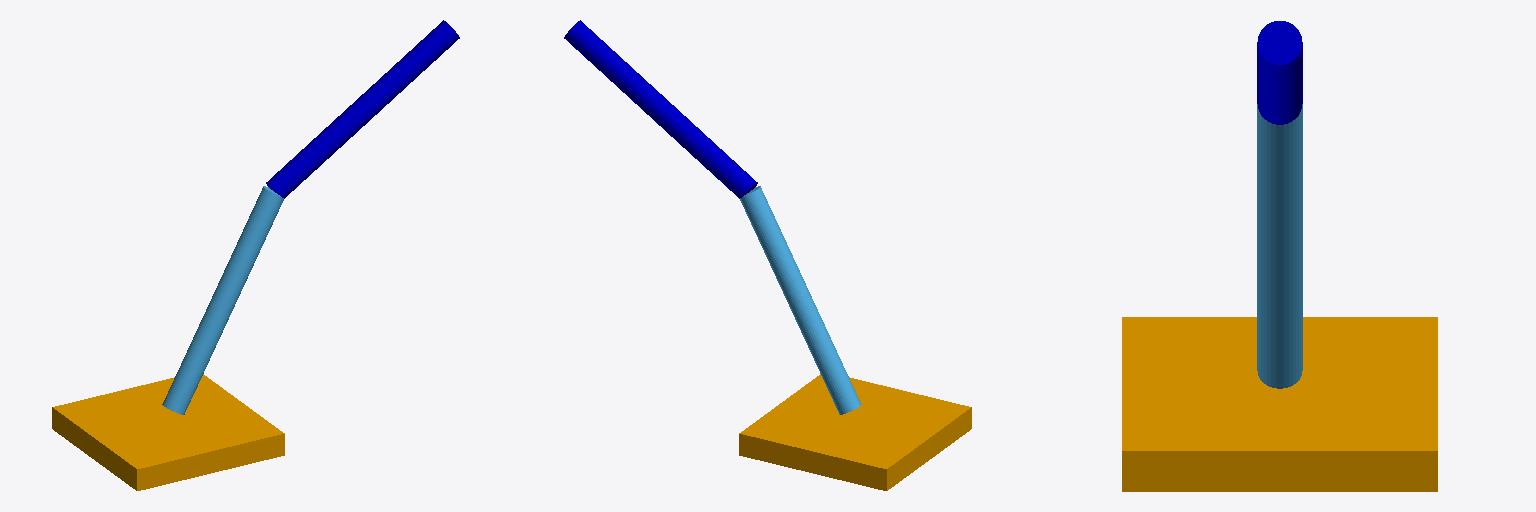
robot.urdf — 2R_robot:
<robot name="2R_robot">
    <material name="blue">
        <color rgba="0 0 0.8 1"/>
    </material>
    <material name="black">
        <color rgba="0 0 0 1"/>
    </material>
    
    <link name="base_link">
        <inertial>
            <origin xyz="8e-05 0.02446 -0.00146" rpy="0 0 0"/>
            <mass value="1000000"/>
            <inertia ixx="0.00196" ixy="0" ixz="0" iyy="0.00133" iyz="-2e-05" izz="0.0023"/>
        </inertial>
        <visual>
            <geometry>
                <box size="0.7 0.7 0.10"/>
            </geometry>
        </visual>
        <collision>
            <origin xyz="0 0.00015 -0.00044" rpy="0 0 0"/>
            <geometry>
                <box size="0.7 0.7 0.10"/>
            </geometry>
        </collision>
    </link>
    <link name="link1">
        <visual>
            <geometry>
                <cylinder length="1" radius="0.05"/>
            </geometry>
            <origin rpy="0 0 0" xyz="0 0 0.55"/>
            <material name="white"/>
        </visual>
    </link>
    <joint name="joint1" type="revolute">
        <parent link="base_link"/>
        <child link="link1"/>
        <origin xyz="0 0 0.05" rpy="0.0 0.5 0.0"/>
        <limit effort="200" lower="-3.14" upper="3.14" velocity="1.0"/>
        <axis xyz= "1 0 0"/>
    </joint>
    <link name="link2">
        <visual>
            <geometry>
                <cylinder length="1" radius="0.05"/>
            </geometry>
            <origin rpy="0 0 0" xyz="0 0 0.5"/>
            <material name="blue"/>
        </visual>
    </link>
    <joint name="joint2" type="revolute">
        <parent link="link1"/>
        <child link="link2"/>
        <origin xyz="0 0 1.05" rpy="0.0 0.5 0.0"/>
        <limit effort="200" lower="-3.14" upper="3.14" velocity="1.0"/>
        <axis xyz= "1 0 0"/>
    </joint>
</robot>

--- Render facts (derived) ---
The picture shows the robot from 3 angles, left to right: view 1: azimuth 30°, elevation 25°; view 2: azimuth 150°, elevation 25°; view 3: azimuth 270°, elevation 25°; orthographic projection.
Robot: 2R_robot — 3 links, 2 joints (2 revolute); root link base_link; default pose: all joints at 0.
Links seen in each view (by area): view 1: base_link, link1, link2; view 2: base_link, link1, link2; view 3: base_link, link1, link2.
Boxes of the visible links, bbox=[...] form: base_link: bbox=[52, 374, 284, 490]; link1: bbox=[162, 186, 283, 414]; link2: bbox=[266, 20, 459, 198]; base_link: bbox=[739, 374, 971, 490]; link1: bbox=[740, 186, 861, 414]; link2: bbox=[564, 20, 757, 198]; base_link: bbox=[1122, 317, 1437, 491]; link1: bbox=[1257, 104, 1302, 388]; link2: bbox=[1257, 21, 1302, 124].
Bounding box of the posed robot: 1.72 × 0.7 × 1.6 m (x, y, z).
Geometry: primitives only (box / cylinder / sphere), no mesh files.